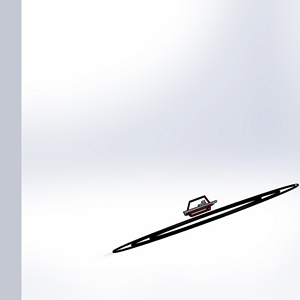circle: (95, 165, 300, 258)
submarine: (176, 191, 222, 222)
